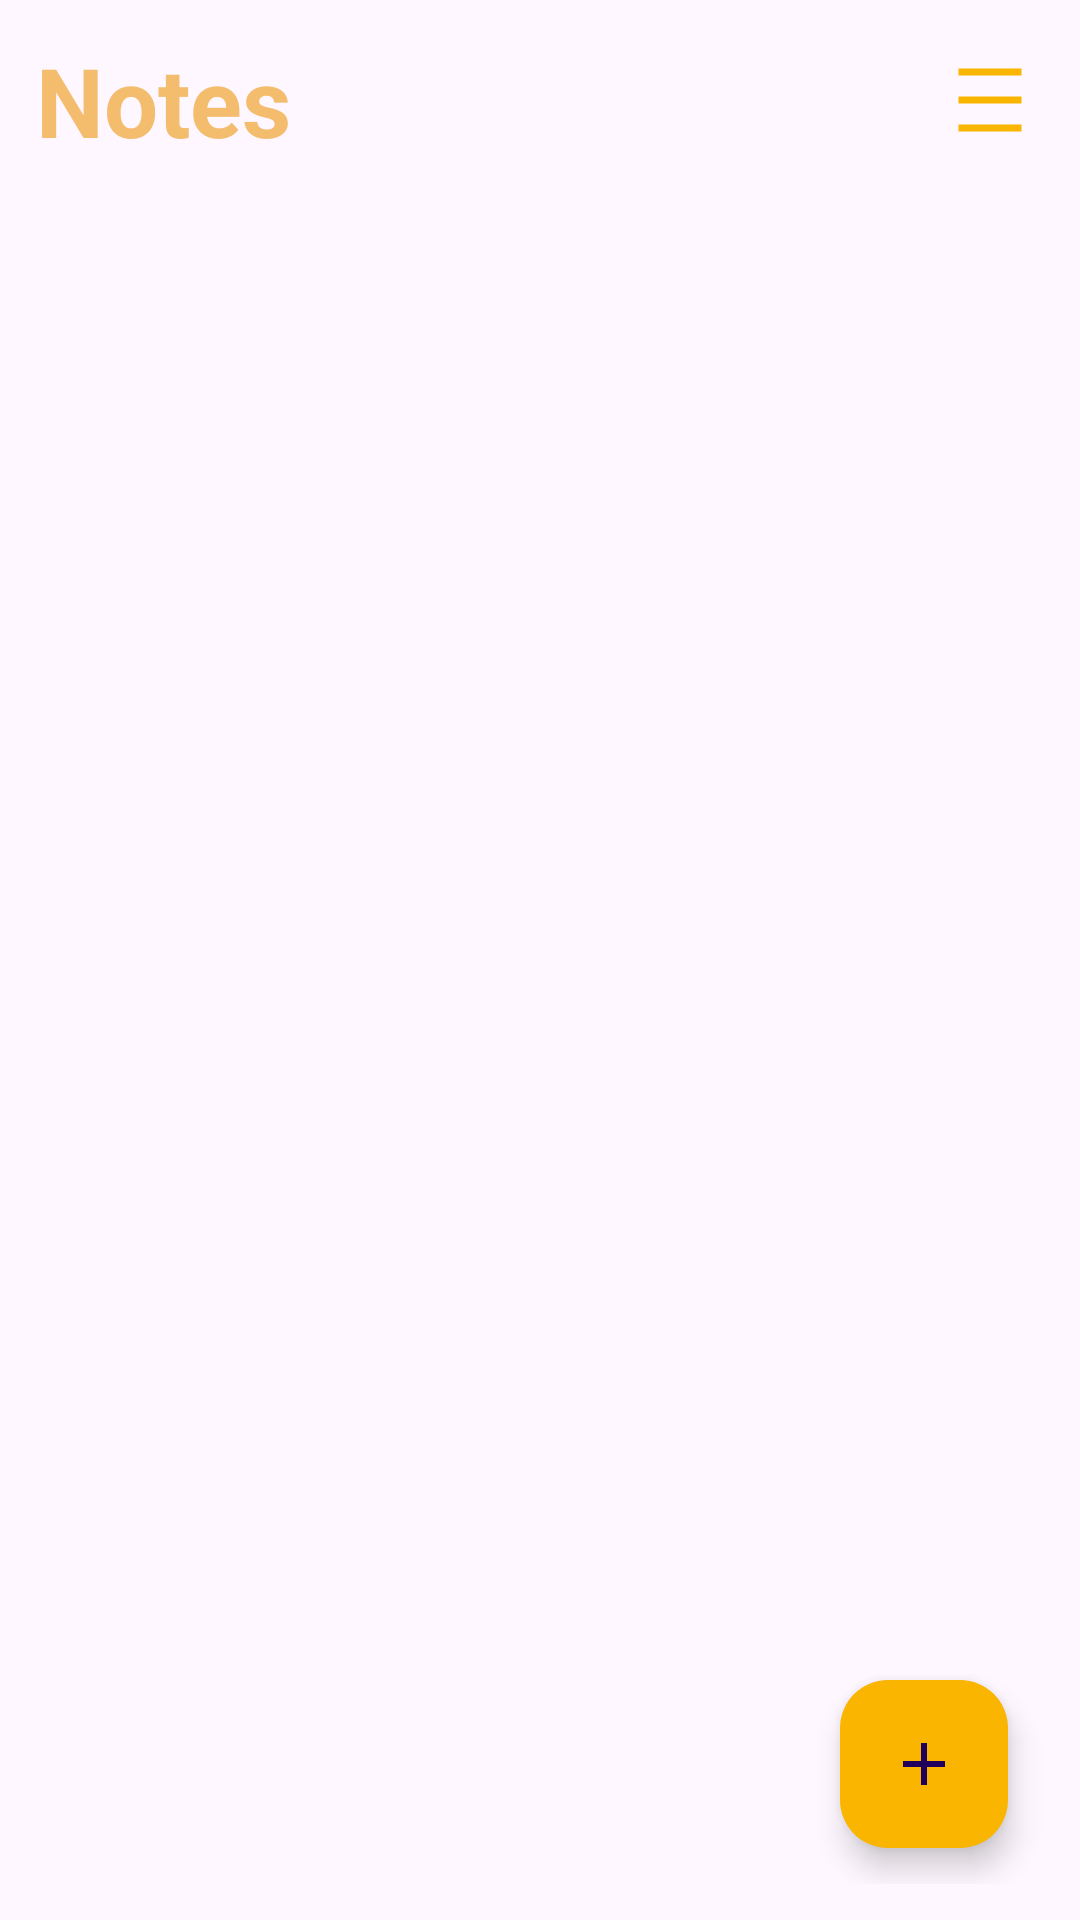

Named icons in this screenshot (1080×1920) and their bounding boxes, (x1, y1, x2, y2):
add: (840, 1680, 1008, 1848)
density medium: (958, 68, 1022, 132)
